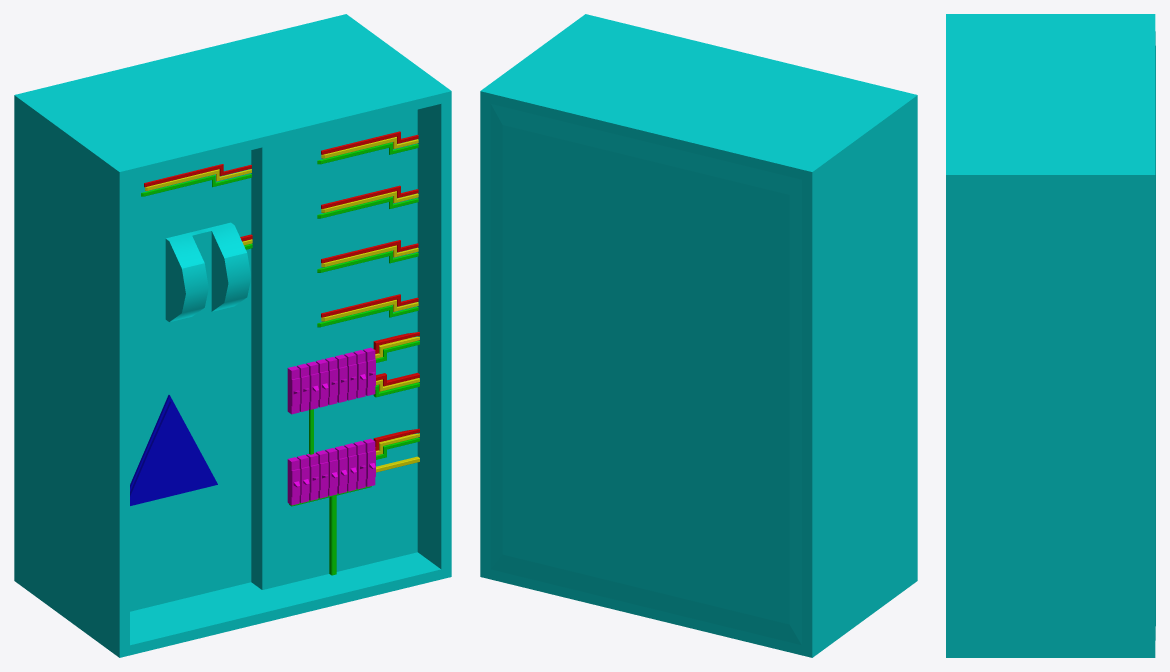
Rendered from fuze_final_3.fbx.
3 views of the same model, side by side, from view 1: azimuth 30°, elevation 25°; view 2: azimuth 150°, elevation 25°; view 3: azimuth 270°, elevation 25° (orthographic).
Parts seen in each view (by area): view 1: polySurface9; view 2: polySurface9; view 3: polySurface9.
Part boxes in pixels (box(x1,y1,x2,y2)): polySurface9: box(14, 14, 451, 657); polySurface9: box(480, 14, 917, 657); polySurface9: box(946, 14, 1155, 657).
Bounding box in the file's own units: 3.45 × 4.82 × 1.9.
